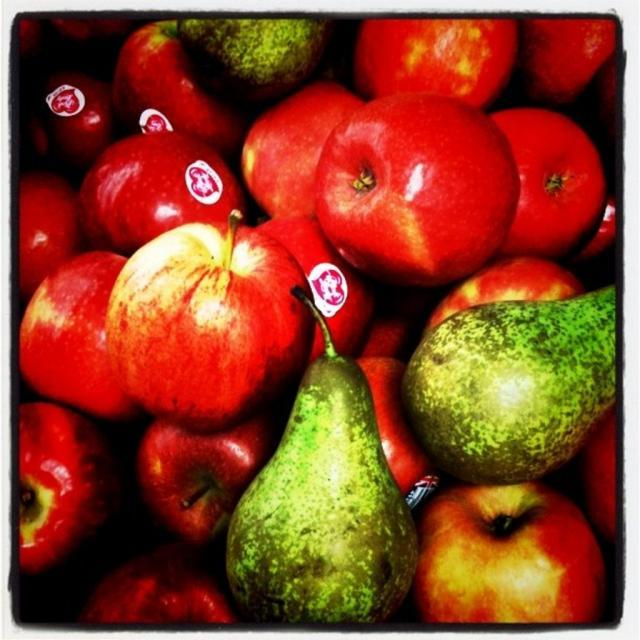Pear: (226, 288, 417, 633), (400, 286, 626, 484), (177, 14, 331, 114)
